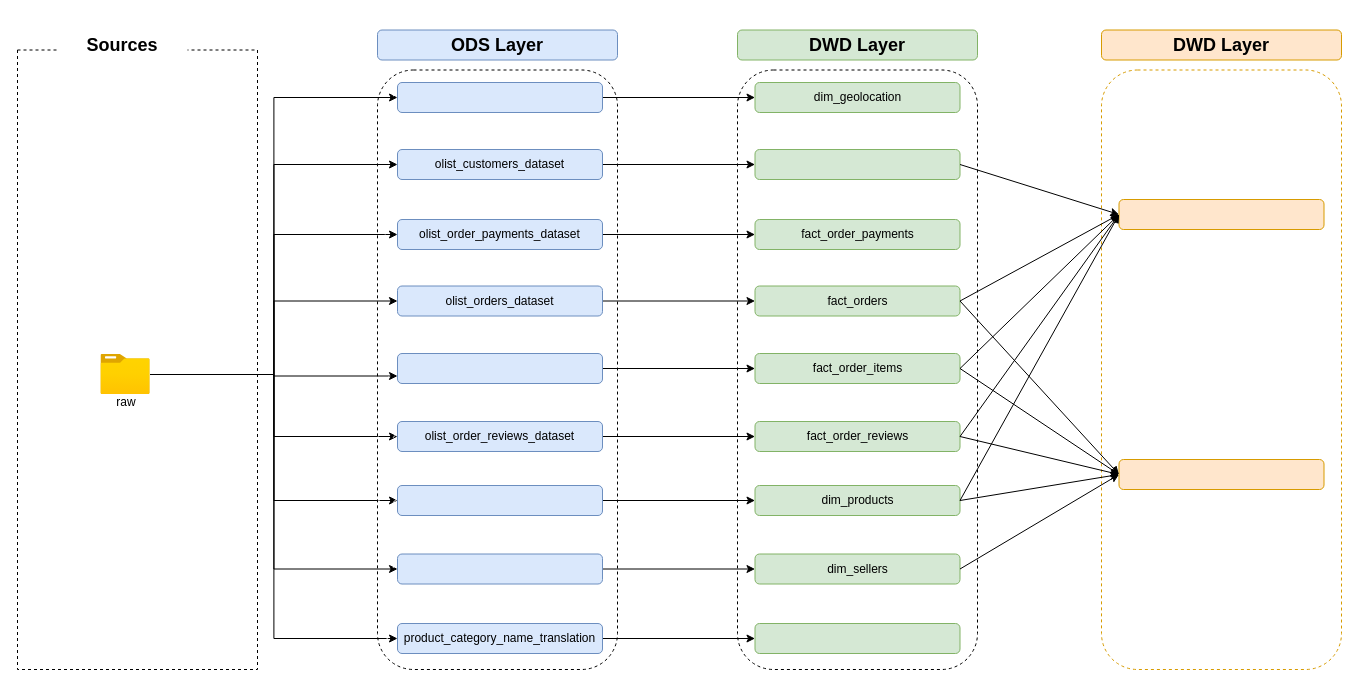
Some shapes in this 1359 by 687 pixel diagram are drawn without their labels. The shapes that lost their labels are listed below. From the top down, each one's box as (x1, y1, x2, y2) in pixels, then its label:
(396, 82, 602, 112): olist_geolocation_dataset
(754, 148, 960, 180): dim_customers
(1118, 198, 1324, 230): vw_exec_sales_overview
(396, 352, 602, 384): olist_order_items_dataset
(1118, 458, 1324, 490): vw_seller_delivery_performance
(396, 484, 602, 516): olist_products_dataset
(396, 553, 602, 584): olist_sellers_dataset
(754, 622, 960, 654): dim_product_category
